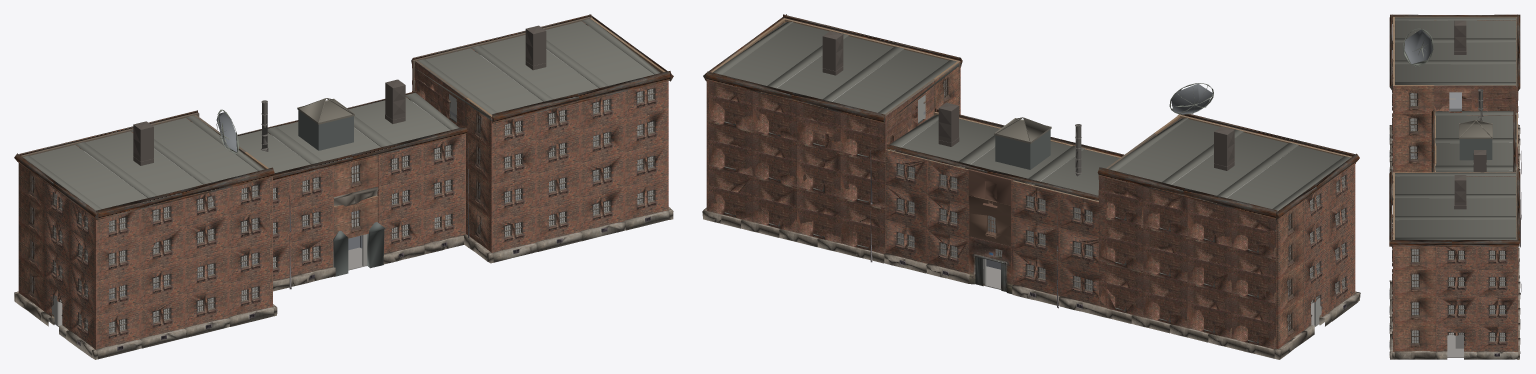
File: prison-block.zfix-v5.lod0.glb
The picture shows the model from 3 angles, left to right: view 1: azimuth 30°, elevation 25°; view 2: azimuth 150°, elevation 25°; view 3: azimuth 270°, elevation 25°; orthographic projection. The views are drawn at different scales.
Visible parts, largest first — view 1: Jail_Build9_MAT_0, Jail_GLASS_Clear_m_0, Jail_Build7_MAT_0, Jail_grills_mat_0, Jail_Build8_MAT_0, Jail_Build1_MAT_0, Jail_Build4_MAT_0; view 2: Jail_Build1_MAT_0, Jail_GLASS_Clear_m_0, Jail_Build9_MAT_0, Jail_grills_mat_0, Jail_Build4_MAT_0, Jail_Build7_MAT_0, Jail_Build8_MAT_0; view 3: Jail_GLASS_Clear_m_0, Jail_Build9_MAT_0, Jail_Build7_MAT_0, Jail_grills_mat_0, Jail_Build1_MAT_0, Jail_Build8_MAT_0, Jail_Build4_MAT_0.
Part boxes in pixels (bbox=[...]): Jail_Build9_MAT_0: bbox=[44, 17, 668, 349]; Jail_GLASS_Clear_m_0: bbox=[23, 18, 660, 332]; Jail_Build7_MAT_0: bbox=[18, 54, 665, 310]; Jail_grills_mat_0: bbox=[14, 14, 673, 293]; Jail_Build8_MAT_0: bbox=[40, 210, 669, 359]; Jail_Build1_MAT_0: bbox=[21, 17, 590, 156]; Jail_Build4_MAT_0: bbox=[14, 207, 673, 359]; Jail_Build1_MAT_0: bbox=[709, 79, 1276, 349]; Jail_GLASS_Clear_m_0: bbox=[713, 21, 1350, 330]; Jail_Build9_MAT_0: bbox=[706, 18, 1355, 330]; Jail_grills_mat_0: bbox=[703, 14, 1359, 331]; Jail_Build4_MAT_0: bbox=[702, 210, 1360, 359]; Jail_Build7_MAT_0: bbox=[758, 19, 1303, 348]; Jail_Build8_MAT_0: bbox=[703, 207, 1357, 339]; Jail_GLASS_Clear_m_0: bbox=[1392, 17, 1521, 357]; Jail_Build9_MAT_0: bbox=[1392, 16, 1518, 351]; Jail_Build7_MAT_0: bbox=[1395, 16, 1516, 351]; Jail_grills_mat_0: bbox=[1389, 14, 1520, 343]; Jail_Build1_MAT_0: bbox=[1434, 17, 1518, 239]; Jail_Build8_MAT_0: bbox=[1389, 126, 1517, 359]; Jail_Build4_MAT_0: bbox=[1389, 124, 1520, 359].
Size of the model in its own units: 51.79 by 17.11 by 12.72.
Materials: 8 (7 with a texture image).
